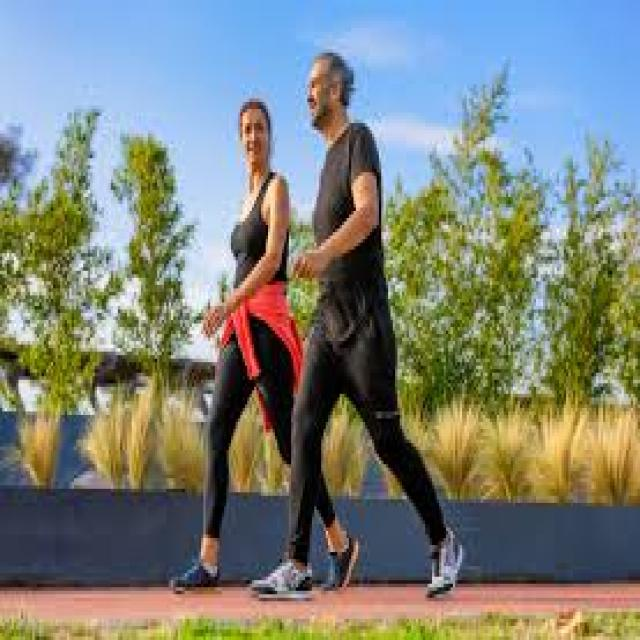Person: (254, 47, 468, 602), (172, 98, 358, 590)
